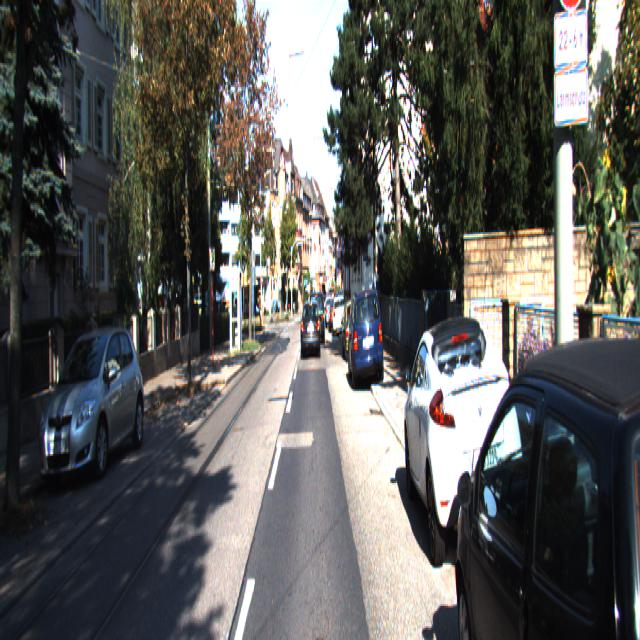Car: (452, 316, 639, 638), (403, 307, 525, 594), (34, 322, 146, 492), (348, 284, 384, 394), (341, 297, 364, 363), (300, 298, 320, 361), (308, 289, 325, 346), (332, 294, 347, 339)
